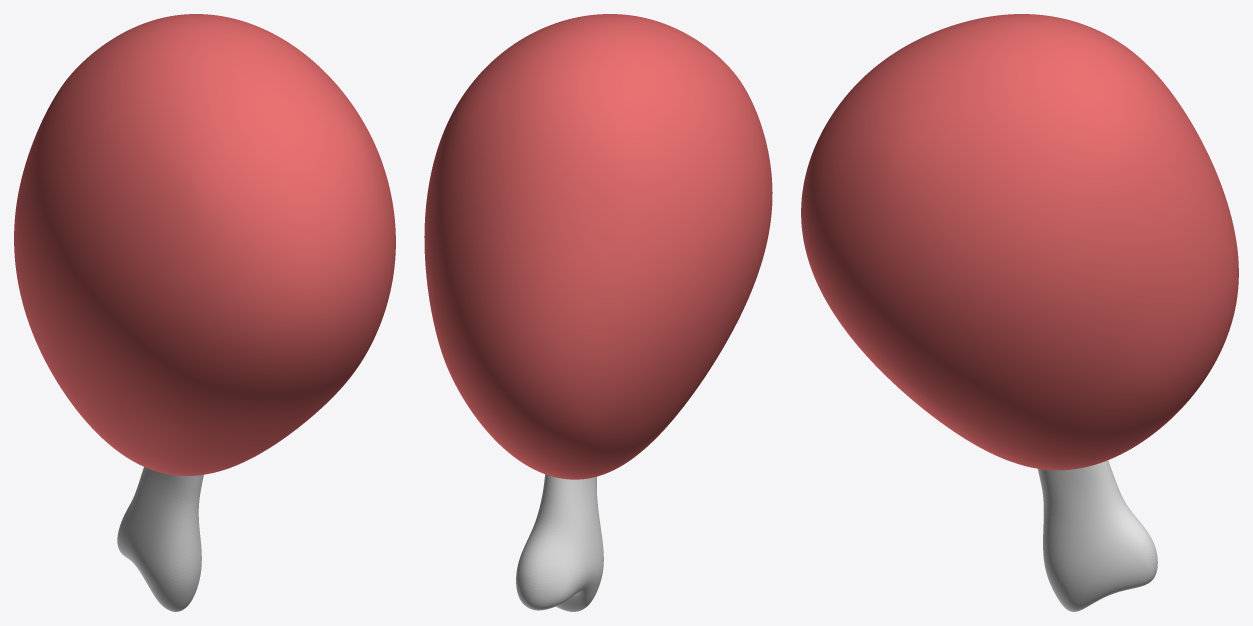
File: meat22.fbx
The picture shows the model from 3 angles, left to right: view 1: azimuth 30°, elevation 25°; view 2: azimuth 150°, elevation 25°; view 3: azimuth 270°, elevation 25°; orthographic projection. The views are drawn at different scales.
Visible parts, largest first — view 1: Cube.002; view 2: Cube.002; view 3: Cube.002.
Boxes of the visible parts, x1,y1,x2,y2 form: Cube.002: [14, 14, 395, 611]; Cube.002: [424, 14, 772, 611]; Cube.002: [801, 14, 1238, 611].
Bounding box in the file's own units: 840 × 1571 × 1070.
